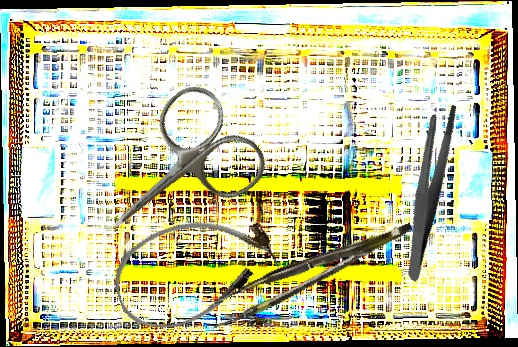Cannula: (102, 198, 287, 343)
Dressing Forceps: (362, 98, 495, 283)
Iris Scissors: (74, 75, 276, 272)
Tissue Forceps: (202, 222, 422, 329)
